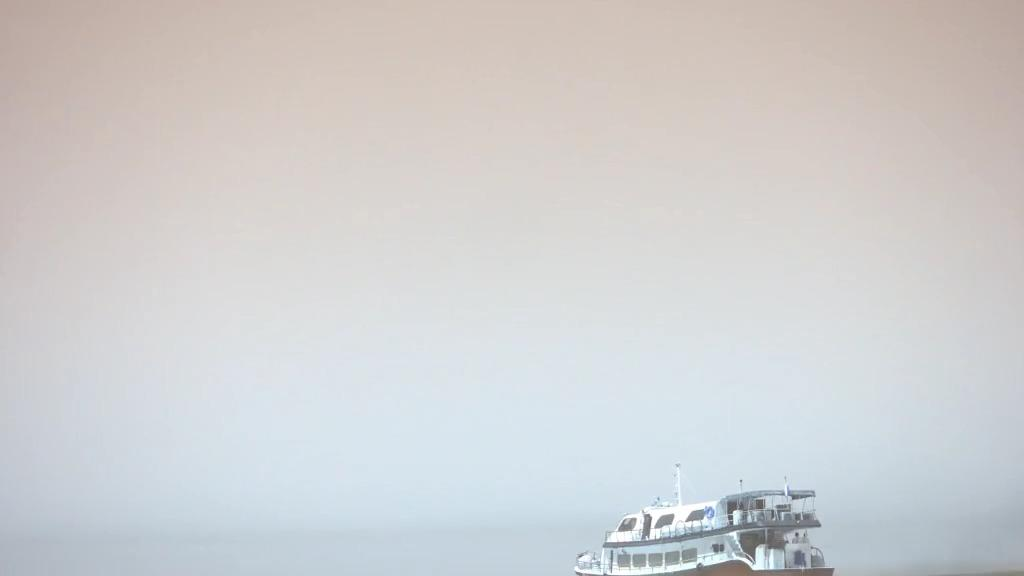PassengerShip: (566, 457, 840, 576)
